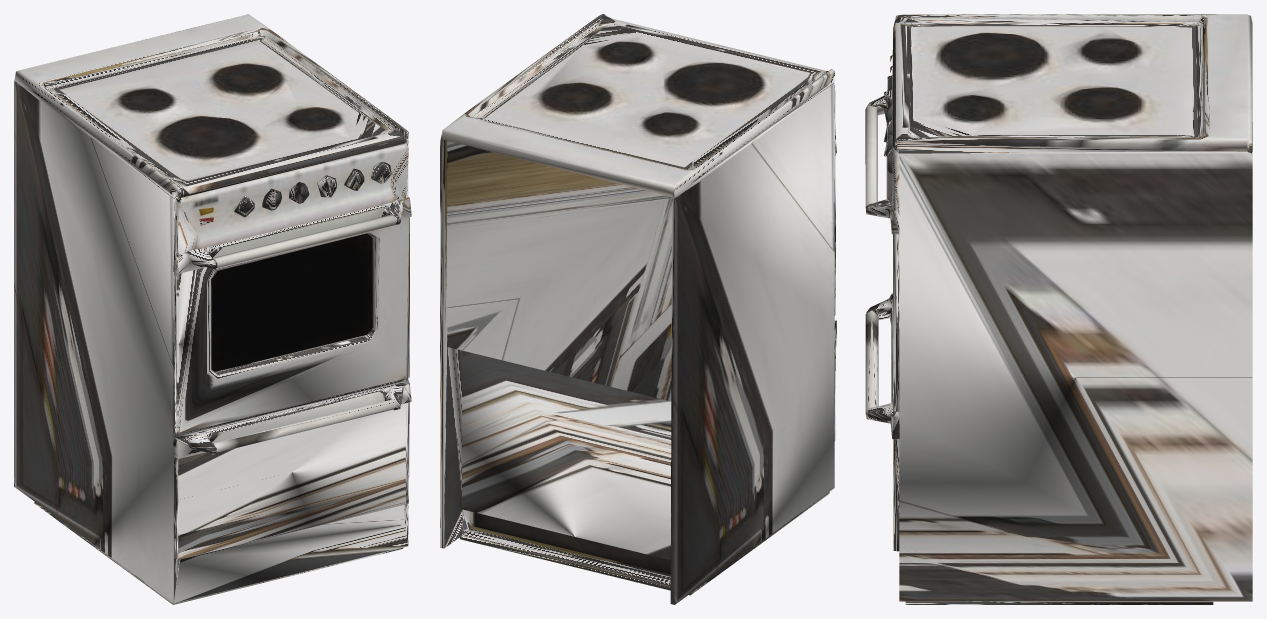
File: electric_stove.gltf
3 views of the same model, side by side, from view 1: azimuth 30°, elevation 25°; view 2: azimuth 150°, elevation 25°; view 3: azimuth 270°, elevation 25° (orthographic). The views are drawn at different scales.
Bounding box in the file's own units: 0.5026 × 0.8587 × 0.6459.
Materials: 2 (2 with a texture image).
